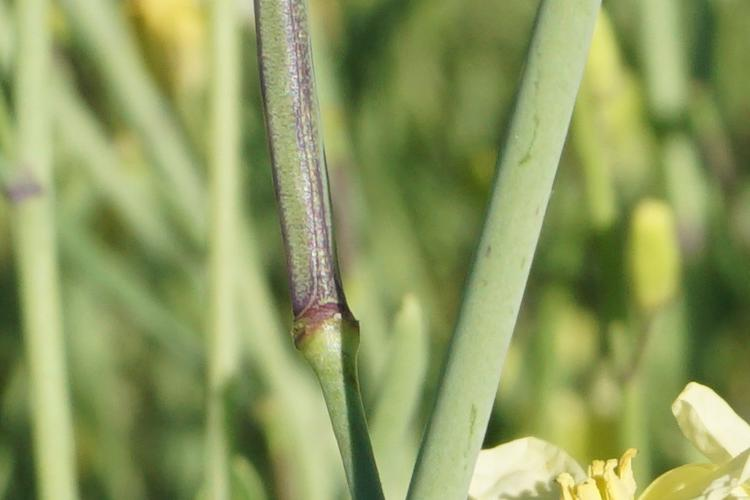pod: (245, 2, 365, 344)
